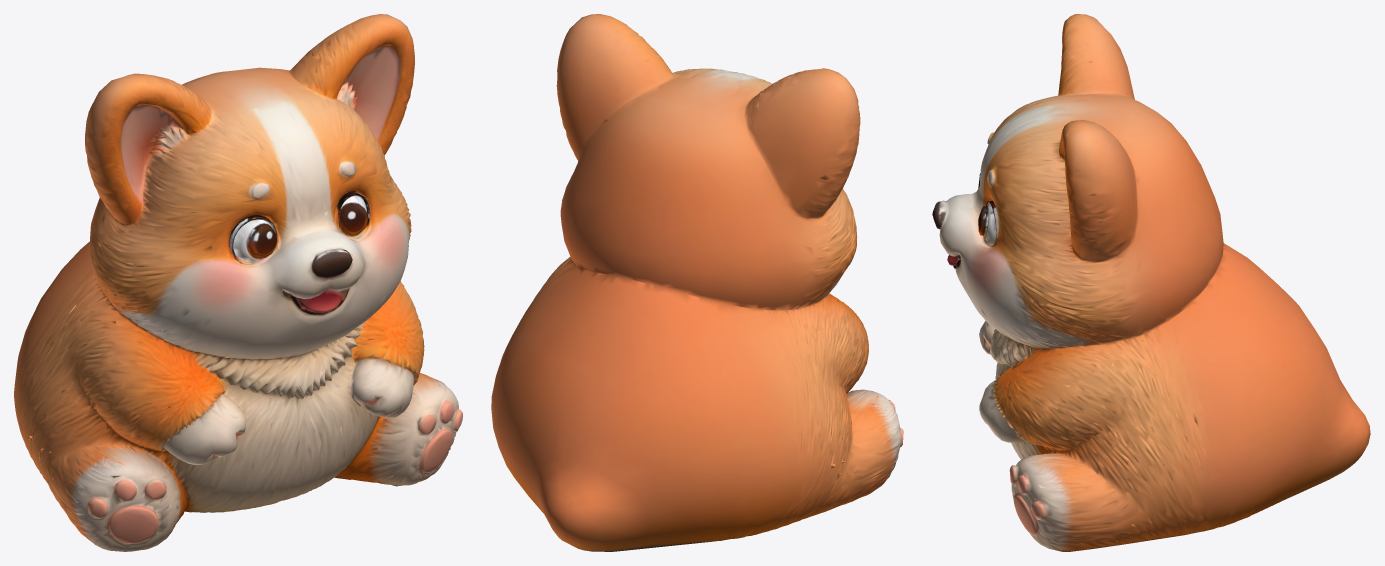
The model's file is pet_corgi.glb.
The picture shows the model from 3 angles, left to right: view 1: azimuth 30°, elevation 25°; view 2: azimuth 150°, elevation 25°; view 3: azimuth 270°, elevation 25°; orthographic projection. The views are drawn at different scales.
Bounding box in the file's own units: 0.7948 × 0.9116 × 0.8836.
Materials: 1 (1 with a texture image).
